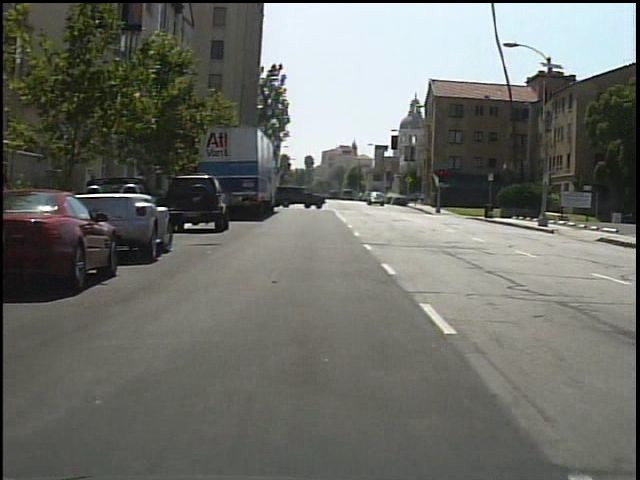person: (410, 188, 422, 210)
